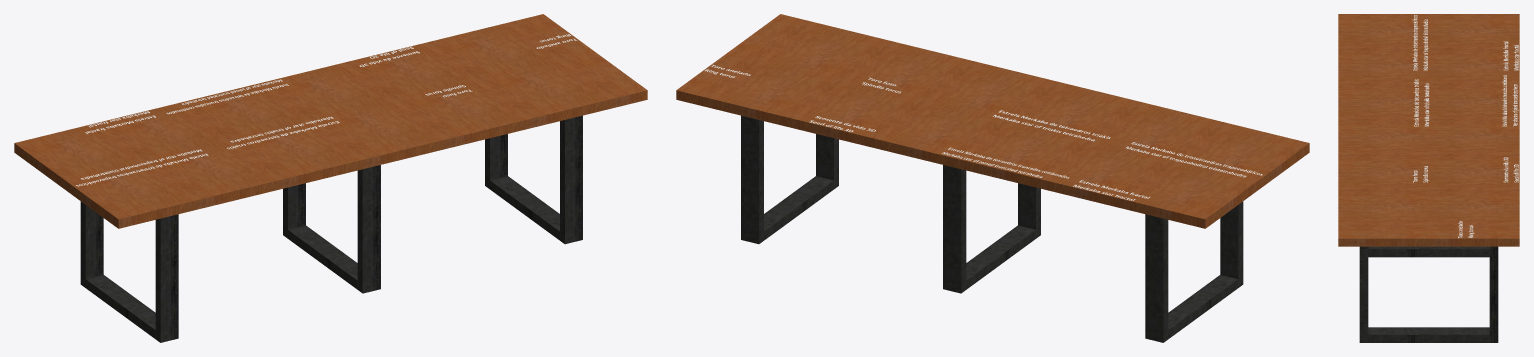
The model's file is geomSagrada8.glb.
3 renders of one model, left to right at view 1: azimuth 30°, elevation 25°; view 2: azimuth 150°, elevation 25°; view 3: azimuth 270°, elevation 25°, orthographic. The views are drawn at different scales.
Parts seen in each view (by area): view 1: object 1, Composant#1 (×3), Estrela Merkaba #2, Estrela Merkaba #1; view 2: object 1, Composant#1 (×3), Estrela Merkaba #2, Estrela Merkaba #1; view 3: object 1, Composant#1 (×2), Estrela Merkaba #2, Estrela Merkaba #1, Estrela Merkaba, Estrela Merkaba #3, Semente da vida.
Part boxes in pixels (<box>): object 1: <box>14,14,647,228</box>; Composant#1 (×3): <box>80,115,582,342</box>; Estrela Merkaba #2: <box>76,149,208,186</box>; Estrela Merkaba #1: <box>166,79,288,114</box>; object 1: <box>676,14,1309,228</box>; Composant#1 (×3): <box>741,115,1243,342</box>; Estrela Merkaba #2: <box>1125,142,1262,177</box>; Estrela Merkaba #1: <box>942,147,1069,178</box>; object 1: <box>1338,14,1519,246</box>; Composant#1 (×2): <box>1359,246,1498,342</box>; Estrela Merkaba #2: <box>1413,15,1428,70</box>; Estrela Merkaba #1: <box>1502,75,1518,126</box>; Estrela Merkaba: <box>1414,79,1429,126</box>; Estrela Merkaba #3: <box>1503,41,1518,70</box>; Semente da vida: <box>1503,157,1518,182</box>.
Bounding box in the file's own units: 2.93 × 0.771 × 1.
3 materials, 2 textured.
